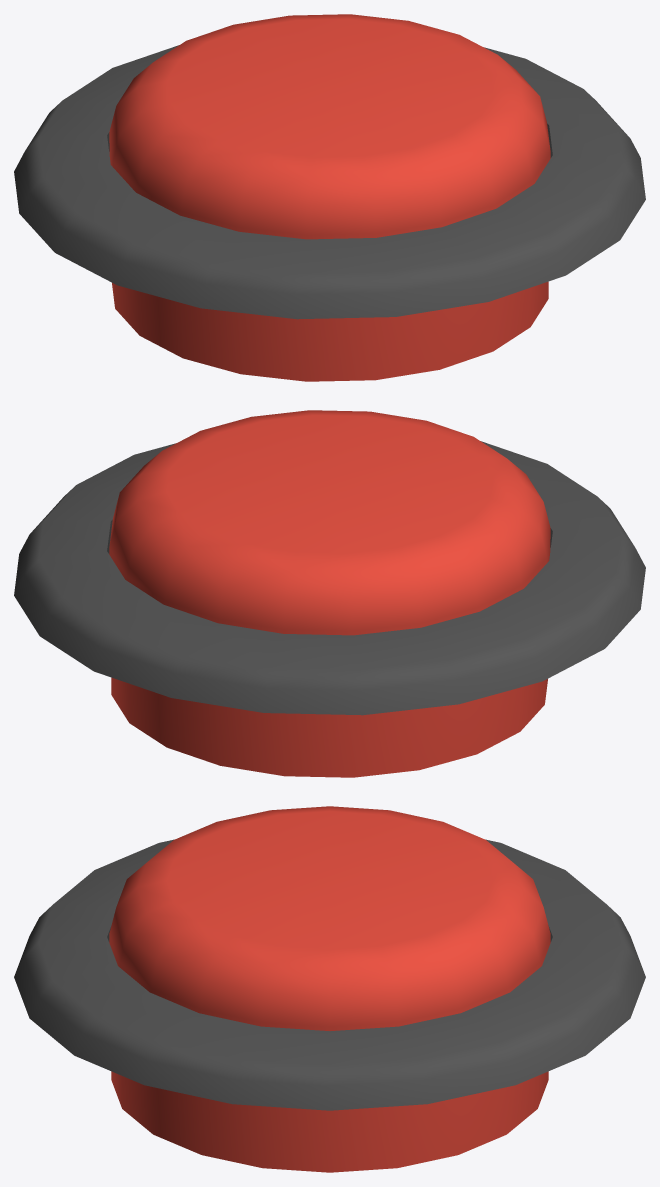
Rendered from button4_pressed.glb.
The picture shows the model from 3 angles, top to bottom: view 1: azimuth 30°, elevation 25°; view 2: azimuth 150°, elevation 25°; view 3: azimuth 270°, elevation 25°; orthographic projection.
Parts seen in each view (by area): view 1: SM_SimpleButton_B.001, SM_SimpleButton_Base_B.001; view 2: SM_SimpleButton_B.001, SM_SimpleButton_Base_B.001; view 3: SM_SimpleButton_B.001, SM_SimpleButton_Base_B.001.
Boxes of the visible parts, box(x1,y1,x2,y2) form: SM_SimpleButton_B.001: box(109, 14, 550, 381); SM_SimpleButton_Base_B.001: box(14, 45, 645, 319); SM_SimpleButton_B.001: box(109, 410, 550, 777); SM_SimpleButton_Base_B.001: box(14, 441, 645, 715); SM_SimpleButton_B.001: box(109, 806, 550, 1172); SM_SimpleButton_Base_B.001: box(14, 839, 645, 1110).
Bounding box in the file's own units: 24.07 × 8.4 × 24.07.
